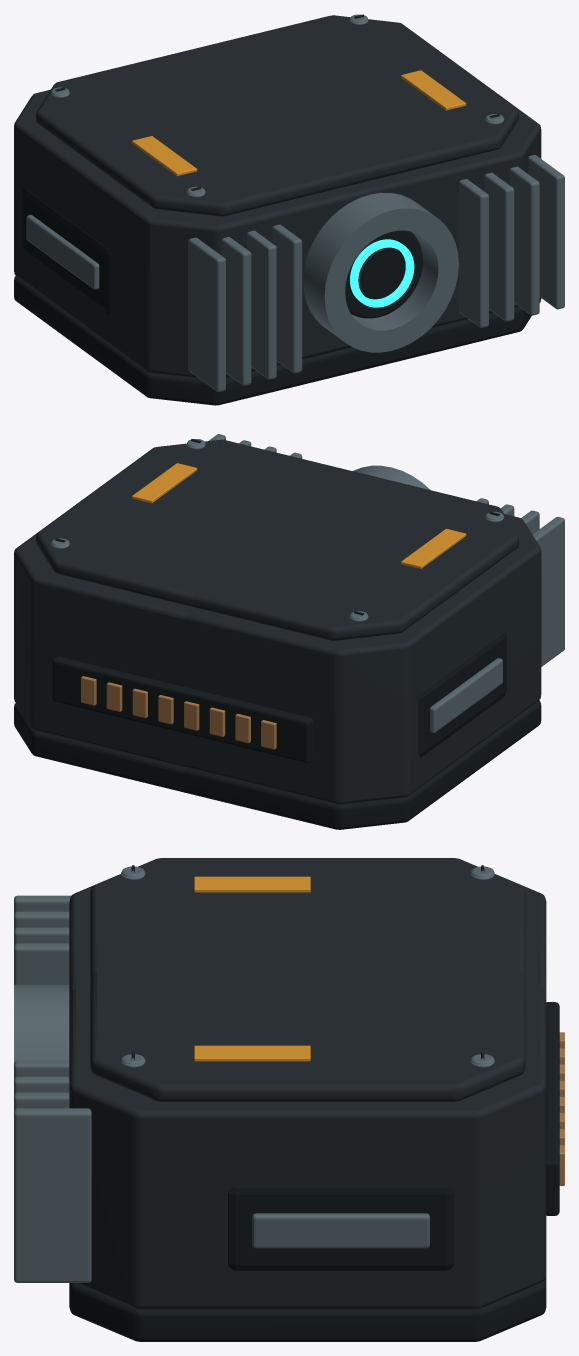
The model's file is engineer_module.glb.
3 views of the same model, one above another, from view 1: azimuth 30°, elevation 25°; view 2: azimuth 150°, elevation 25°; view 3: azimuth 270°, elevation 25° (orthographic). The views are drawn at different scales.
Visible parts, largest first — view 1: ServiceLid, ConformalCassetteShell, ToolSocket, LowerIsolationSeal, HeatFin.007, HeatFin.004, HeatFin.006, HeatFin.005, RecessedCoupler.001, ToolInner, WitnessMark.001, CouplerRail.001 (+1 smaller); view 2: ConformalCassetteShell, ServiceLid, LowerIsolationSeal, ConnectorRecess, RecessedCoupler.001, HeatFin.007, WitnessMark.001, CouplerRail.001, GoldContact.005, GoldContact.006, GoldContact.007, GoldContact.004 (+1 smaller); view 3: ServiceLid, ConformalCassetteShell, LowerIsolationSeal, HeatFin.007, RecessedCoupler.001, CouplerRail.001, ToolSocket, WitnessMark.001, HeatFin.004, ConnectorRecess, HeatFin.005, HeatFin.006.
Part boxes in pixels (left/top/right/bottom): ServiceLid: left=36, top=15, right=518, bottom=216; ConformalCassetteShell: left=14, top=89, right=541, bottom=378; ToolSocket: left=303, top=192, right=458, bottom=352; LowerIsolationSeal: left=14, top=276, right=541, bottom=405; HeatFin.007: left=188, top=155, right=564, bottom=391; HeatFin.004: left=272, top=179, right=488, bottom=373; HeatFin.006: left=221, top=166, right=539, bottom=385; HeatFin.005: left=247, top=172, right=514, bottom=379; RecessedCoupler.001: left=22, top=188, right=110, bottom=314; ToolInner: left=345, top=230, right=422, bottom=318; WitnessMark.001: left=132, top=70, right=466, bottom=176; CouplerRail.001: left=26, top=214, right=99, bottom=289; ConformalCassetteShell: left=14, top=514, right=541, bottom=804; ServiceLid: left=36, top=439, right=518, bottom=640; LowerIsolationSeal: left=14, top=700, right=541, bottom=829; ConnectorRecess: left=52, top=656, right=313, bottom=763; RecessedCoupler.001: left=418, top=631, right=506, bottom=757; HeatFin.007: left=209, top=434, right=564, bottom=666; WitnessMark.001: left=132, top=463, right=466, bottom=568; CouplerRail.001: left=430, top=658, right=502, bottom=732; GoldContact.005: left=132, top=688, right=225, bottom=736; GoldContact.006: left=106, top=682, right=250, bottom=743; GoldContact.007: left=81, top=676, right=276, bottom=749; GoldContact.004: left=158, top=695, right=199, bottom=730; ServiceLid: left=90, top=858, right=525, bottom=1101; ConformalCassetteShell: left=69, top=885, right=546, bottom=1309; LowerIsolationSeal: left=69, top=1276, right=546, bottom=1341; HeatFin.007: left=14, top=895, right=91, bottom=1282; RecessedCoupler.001: left=228, top=1186, right=454, bottom=1270; CouplerRail.001: left=252, top=1213, right=429, bottom=1248; ToolSocket: left=14, top=984, right=69, bottom=1062; WitnessMark.001: left=194, top=876, right=310, bottom=1061; HeatFin.004: left=14, top=943, right=69, bottom=1078; ConnectorRecess: left=546, top=1002, right=559, bottom=1215; HeatFin.005: left=14, top=927, right=69, bottom=1094; HeatFin.006: left=14, top=911, right=69, bottom=1110.
Bounding box in the file's own units: 1.1 × 0.514 × 0.9935.
